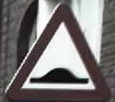Speed Breaker ahead: (7, 5, 109, 97)
